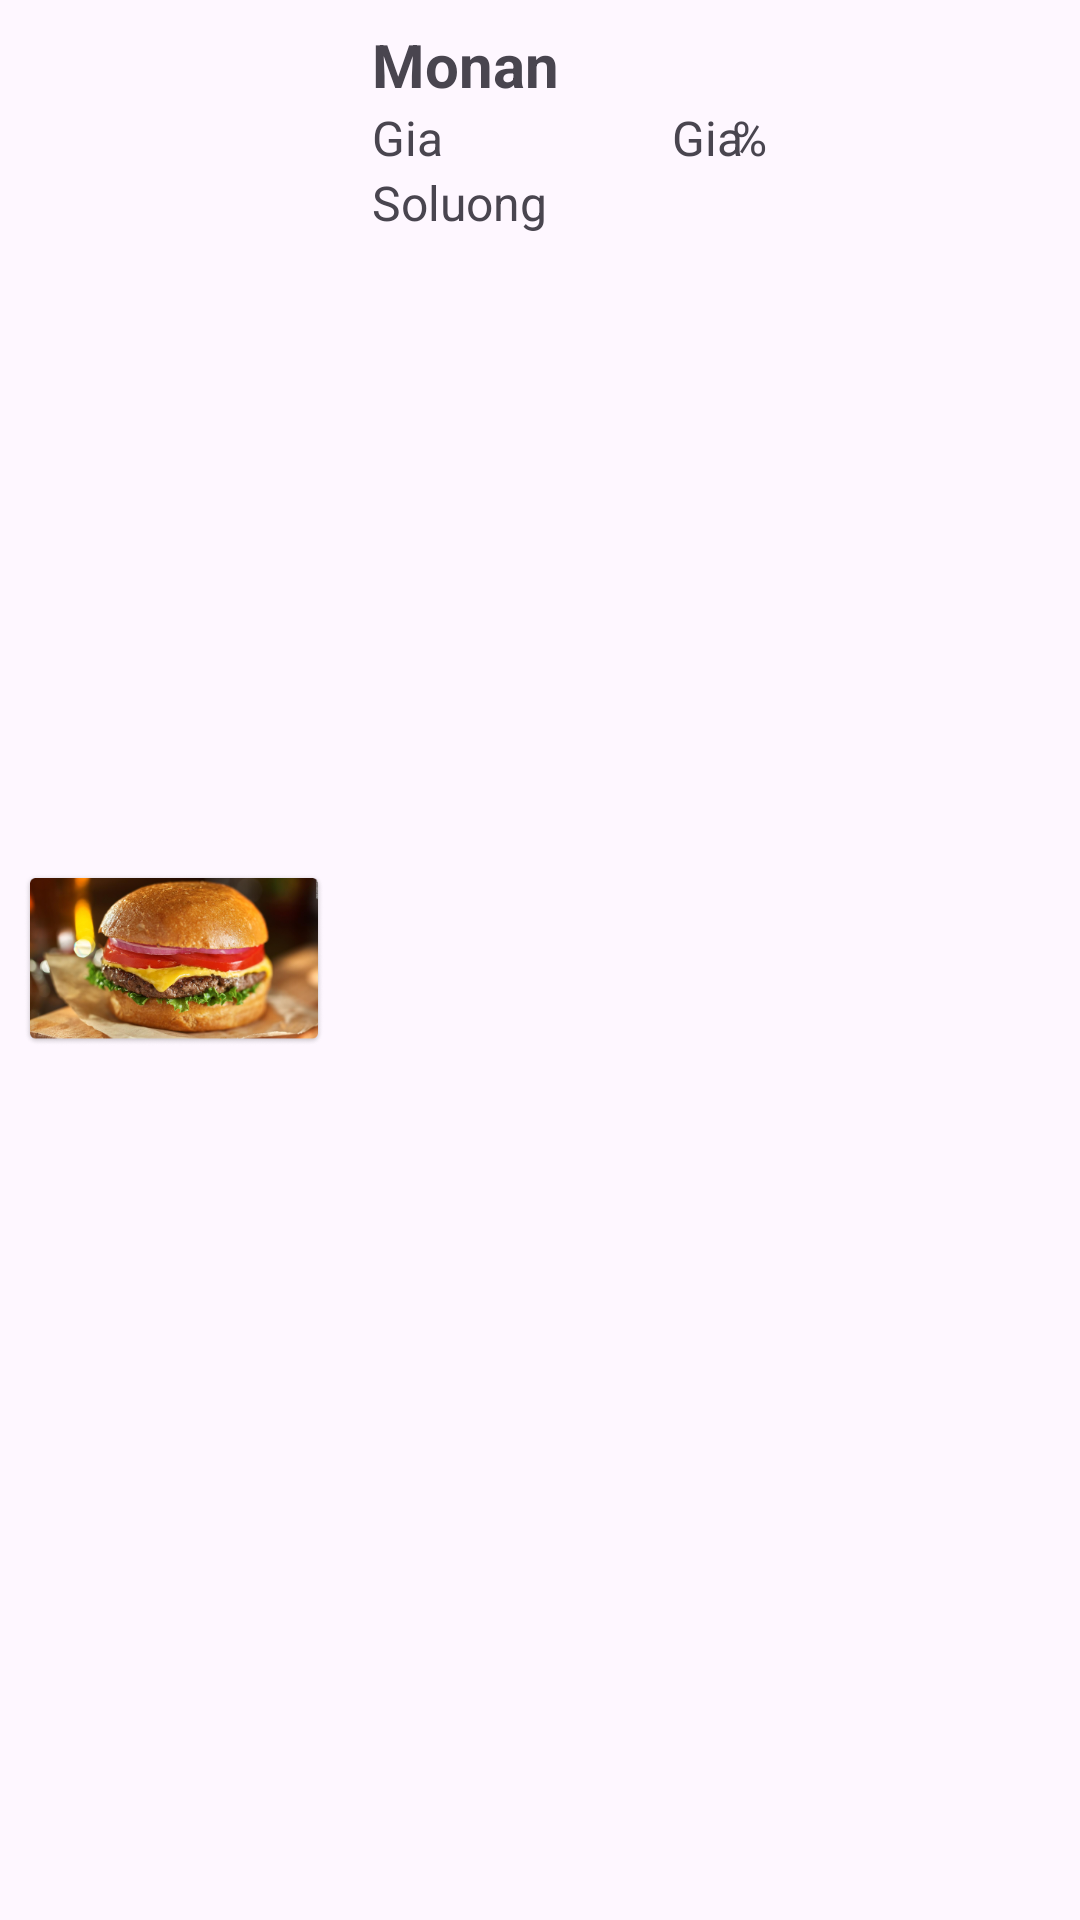

Named icons in this screenshot (1080 × 1920) and their centers, point (x, y):
anhdemo: point (174, 959)
